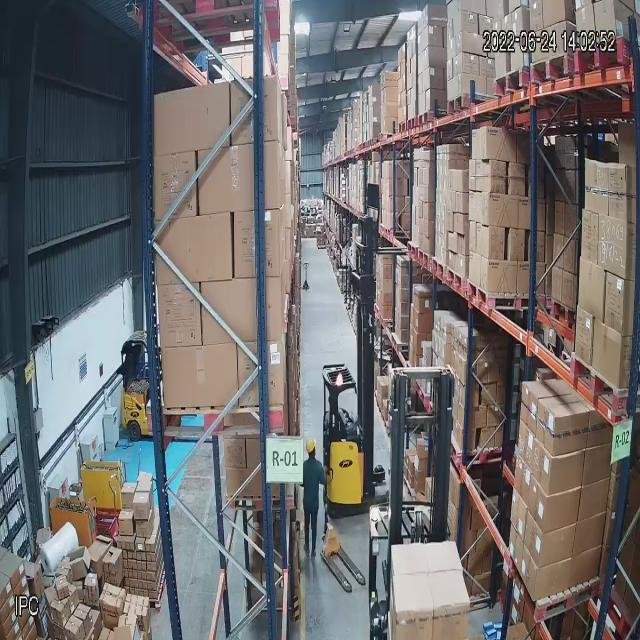box: (152, 82, 233, 148), (202, 281, 283, 340), (195, 152, 280, 207), (155, 224, 233, 277), (162, 350, 238, 404), (578, 252, 624, 333), (574, 303, 625, 376), (581, 207, 629, 272), (150, 154, 197, 216), (233, 213, 279, 276), (157, 285, 202, 346), (229, 83, 277, 138), (239, 343, 283, 403), (540, 404, 590, 448), (524, 551, 574, 594), (534, 449, 586, 489), (532, 484, 580, 526), (528, 519, 575, 561), (486, 127, 518, 163), (225, 468, 262, 497), (489, 194, 519, 227), (60, 548, 91, 579), (102, 548, 126, 586), (489, 261, 517, 290), (520, 200, 546, 230), (519, 264, 545, 292), (98, 593, 122, 622), (72, 603, 93, 632), (489, 162, 507, 194), (412, 305, 432, 332), (120, 480, 136, 513), (510, 166, 526, 197), (128, 594, 150, 616), (226, 442, 246, 466), (508, 230, 524, 260), (462, 32, 484, 53), (426, 3, 448, 24), (490, 229, 505, 259), (461, 52, 479, 76), (118, 512, 134, 537), (136, 496, 150, 522), (63, 621, 83, 639), (461, 12, 479, 32), (428, 47, 447, 65), (415, 289, 431, 310), (428, 68, 444, 89), (429, 90, 447, 108), (428, 27, 444, 47), (480, 58, 495, 79), (449, 171, 465, 190), (454, 213, 468, 233), (418, 148, 432, 168), (456, 191, 468, 213), (477, 362, 489, 382), (488, 408, 500, 427), (489, 362, 500, 381), (476, 409, 487, 427), (397, 178, 408, 196), (448, 233, 458, 252), (397, 260, 407, 275)
